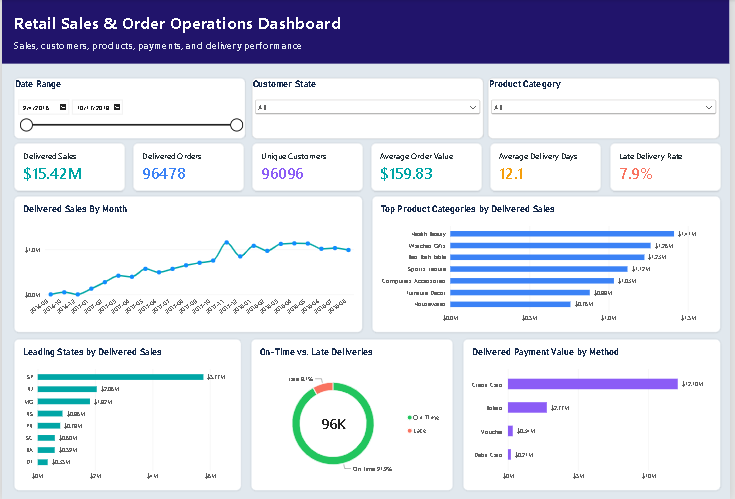

The page's visual inventory and layout, read from the dashboard file:
{"tool":"powerbi","page":{"name":"Executive Overview","canvas":[1440,990],"ordinal":0},"visuals":[{"type":"cardVisual","fields":{"Data":["Measures (2).Delivered Sales"]},"box":[23,284.5,220,95],"z":1000},{"type":"cardVisual","fields":{"Data":["Measures (2).Delivered Orders"]},"box":[259,284.5,220,95],"z":2000},{"type":"cardVisual","fields":{"Data":["Measures (2).Unique Customers"]},"box":[495,284.5,220,95],"z":3000},{"type":"cardVisual","fields":{"Data":["Measures (2).Average Order Value"]},"box":[731,284.5,220,95],"z":4000},{"type":"cardVisual","fields":{"Data":["Measures (2).Average Delivery Days"]},"box":[967,284.5,220,95],"z":5000},{"type":"cardVisual","fields":{"Data":["Measures (2).Late Delivery Rate"]},"box":[1203,284.5,220,95],"z":6000},{"type":"lineChart","title":"Delivered Sales By Month","fields":{"Category":["Date Table.Year Month"],"Y":["_Measures.Delivered Sales"]},"box":[23,390.5,690,270],"z":8000},{"type":"clusteredBarChart","title":"Top Product Categories by Delivered Sales","fields":{"Category":["Products.product_category_english"],"Y":["_Measures.Delivered Sales"]},"box":[733,390.5,690,270],"z":9000},{"type":"clusteredBarChart","title":"Leading States by Delivered Sales","fields":{"Category":["Customers.customer_state"],"Y":["_Measures.Delivered Sales"]},"box":[23,672.5,450,300],"z":10000},{"type":"donutChart","title":"On-Time vs. Late Deliveries","fields":{"Category":["Orders.Delivery Status"],"Y":["_Measures.Total Orders"]},"box":[493,672.5,400,300],"z":11000},{"type":"clusteredBarChart","title":"Delivered Payment Value by Method","fields":{"Category":["Payments.Payment Method"],"Y":["_Measures.Delivered Payment Value"]},"box":[913,672.5,510,300],"z":12000},{"type":"slicer","title":"Date Range","fields":{"Values":["Date Table.Date"]},"box":[23,156.5,458,120],"z":13000},{"type":"slicer","title":"Customer State","fields":{"Values":["Customers.customer_state"]},"box":[495,156.5,458,120],"z":14000},{"type":"slicer","title":"Product Category","fields":{"Values":["Products.product_category_english"]},"box":[963,156.5,458,120],"z":15000},{"type":"shape","box":[0,0,1440,128],"z":16250},{"type":"textbox","box":[24,24,648,72],"z":17500},{"type":"textbox","box":[23.3,80,585,63.3],"z":18000}]}

Visuals, with their boxes in screenshot pixels (x1, y1, x2, y2), scaled from the page's 1440x990 canvas onto the 735x499 screenshot:
cardVisual - Measures (2).Delivered Sales: (12, 143, 124, 191)
cardVisual - Measures (2).Delivered Orders: (132, 143, 244, 191)
cardVisual - Measures (2).Unique Customers: (253, 143, 365, 191)
cardVisual - Measures (2).Average Order Value: (373, 143, 485, 191)
cardVisual - Measures (2).Average Delivery Days: (494, 143, 606, 191)
cardVisual - Measures (2).Late Delivery Rate: (614, 143, 726, 191)
"Delivered Sales By Month" lineChart: (12, 197, 364, 333)
"Top Product Categories by Delivered Sales" clusteredBarChart: (374, 197, 726, 333)
"Leading States by Delivered Sales" clusteredBarChart: (12, 339, 241, 490)
"On-Time vs. Late Deliveries" donutChart: (252, 339, 456, 490)
"Delivered Payment Value by Method" clusteredBarChart: (466, 339, 726, 490)
"Date Range" slicer: (12, 79, 246, 139)
"Customer State" slicer: (253, 79, 486, 139)
"Product Category" slicer: (492, 79, 725, 139)
shape: (0, 0, 734, 65)
textbox: (12, 12, 343, 48)
textbox: (12, 40, 310, 72)
